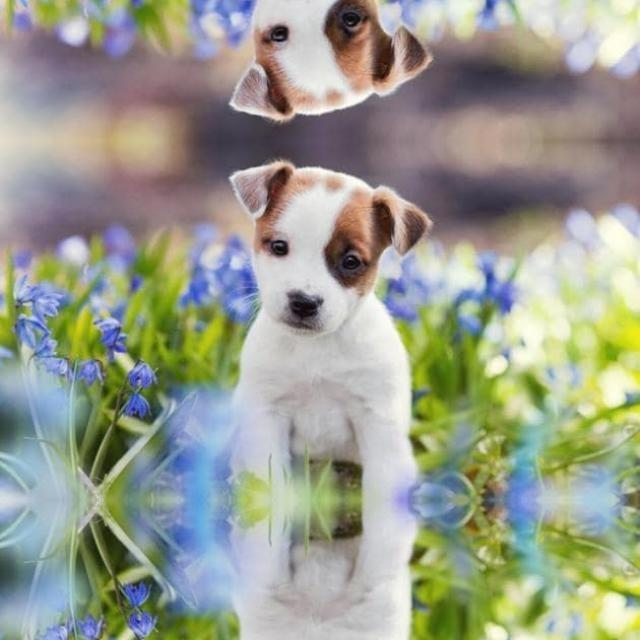dog: (220, 153, 438, 334), (220, 0, 437, 126)
